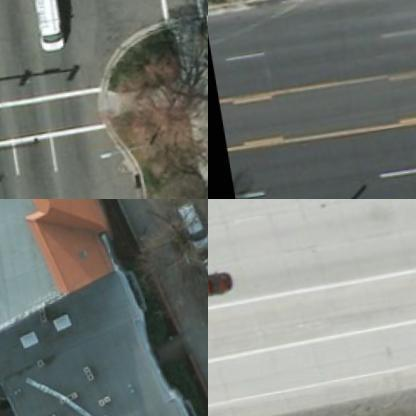car: (26, 0, 64, 57), (180, 208, 207, 261), (208, 269, 229, 302), (197, 257, 207, 318)
